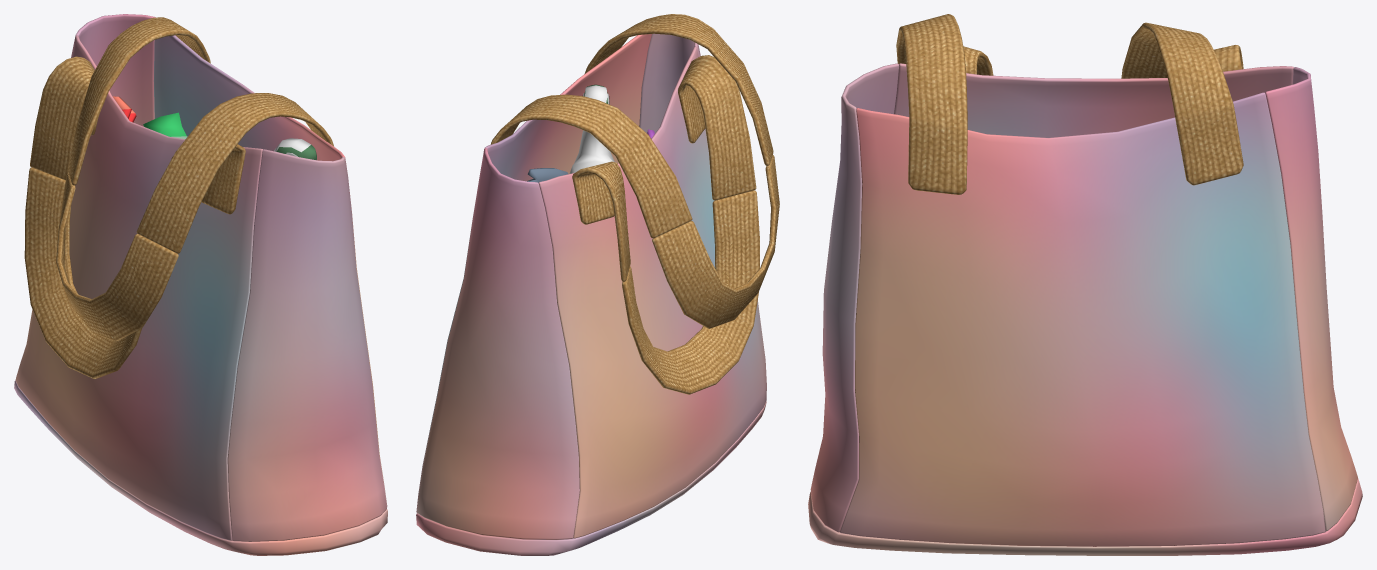
Rendered from Level_P_31.fbx.
3 views of the same model, side by side, from view 1: azimuth 30°, elevation 25°; view 2: azimuth 150°, elevation 25°; view 3: azimuth 270°, elevation 25° (orthographic). The views are drawn at different scales.
Parts seen in each view (by area): view 1: Mesh.042, Mesh, Mesh.022, Mesh.002, Mesh.040, Mesh.003, Mesh.045, Mesh.023, Mesh.039, Mesh.041, Mesh.021, Mesh.009 (+1 smaller); view 2: Mesh.042, Mesh.041, Mesh.022, Mesh.023, Mesh.040, Mesh.021, Mesh.003, Mesh.002, Mesh.039, Mesh.045, Mesh, Mesh.012; view 3: Mesh.040, Mesh.041, Mesh, Mesh.042, Mesh.023, Mesh.002, Mesh.039.
Boxes of the visible parts, left/top/right/bottom form: Mesh.042: left=15, top=35, right=263, bottom=540; Mesh: left=227, top=149, right=386, bottom=541; Mesh.022: left=24, top=167, right=141, bottom=378; Mesh.002: left=136, top=93, right=333, bottom=253; Mesh.040: left=153, top=35, right=387, bottom=506; Mesh.003: left=56, top=173, right=178, bottom=340; Mesh.045: left=30, top=56, right=98, bottom=180; Mesh.023: left=67, top=17, right=210, bottom=185; Mesh.039: left=14, top=380, right=387, bottom=555; Mesh.041: left=16, top=14, right=155, bottom=375; Mesh.021: left=171, top=144, right=245, bottom=214; Mesh.009: left=143, top=112, right=187, bottom=138; Mesh.042: left=538, top=46, right=766, bottom=538; Mesh.041: left=417, top=148, right=579, bottom=539; Mesh.022: left=622, top=190, right=759, bottom=394; Mesh.023: left=490, top=94, right=692, bottom=238; Mesh.040: left=416, top=34, right=651, bottom=512; Mesh.021: left=678, top=55, right=756, bottom=200; Mesh.003: left=652, top=155, right=779, bottom=328; Mesh.002: left=584, top=14, right=773, bottom=165; Mesh.039: left=416, top=401, right=766, bottom=555; Mesh.045: left=572, top=161, right=630, bottom=281; Mesh: left=639, top=33, right=764, bottom=351; Mesh.012: left=527, top=84, right=614, bottom=182; Mesh.040: left=840, top=92, right=1325, bottom=546; Mesh.041: left=1265, top=67, right=1357, bottom=531; Mesh: left=810, top=63, right=898, bottom=532; Mesh.042: left=894, top=63, right=1293, bottom=137; Mesh.023: left=1121, top=22, right=1243, bottom=185; Mesh.002: left=896, top=14, right=967, bottom=194; Mesh.039: left=808, top=478, right=1362, bottom=555.
Bounding box in the file's own units: 5.26 × 8.53 × 8.96.
